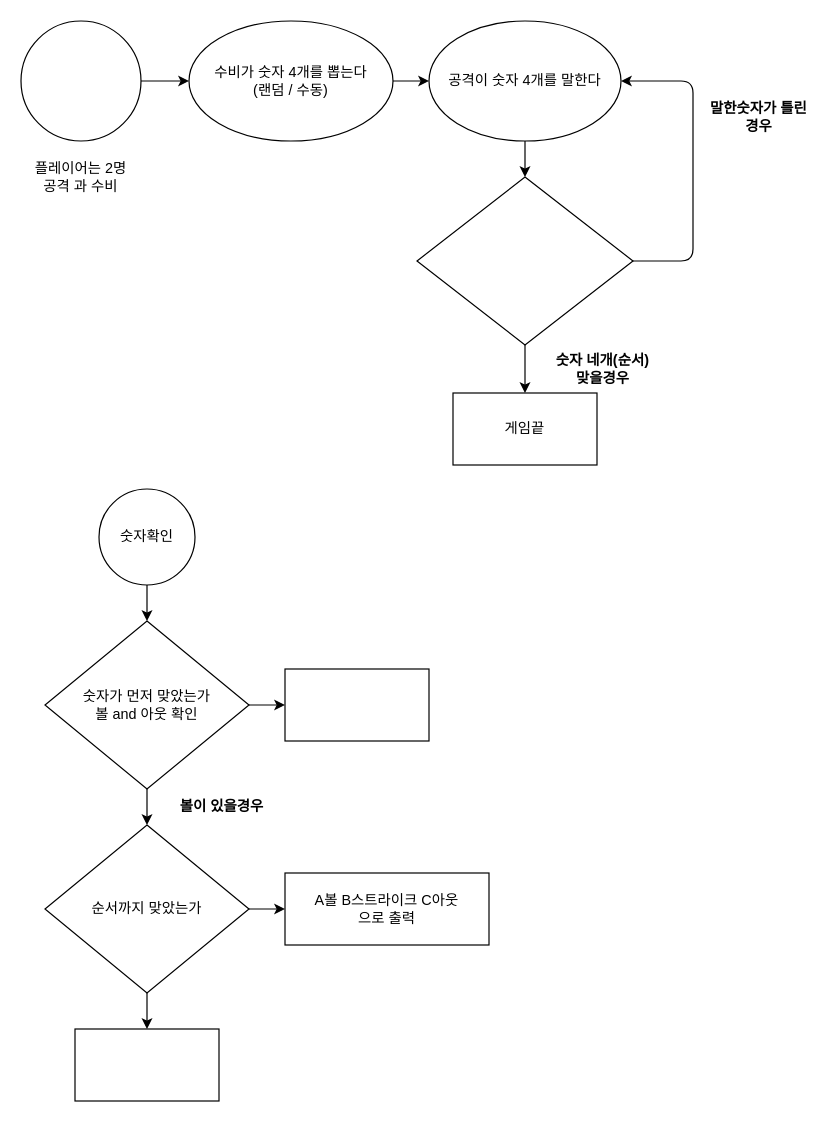
The diagram is 834 pixels wide and 1122 high, and some of its shapes have lost their labels. Each missing label, with the centre of its shape:
"3개다맞을경우 홈런" goes at point (146, 1064).
"게임시작" goes at point (80, 80).
"말한 숫자를 확인한다." goes at point (524, 260).
"아웃" goes at point (356, 704).
